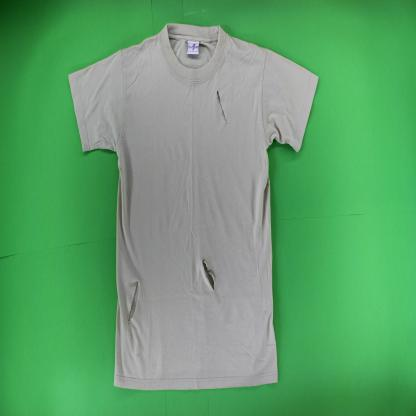hole: (126, 279, 141, 328), (200, 256, 216, 293), (215, 87, 228, 126)
